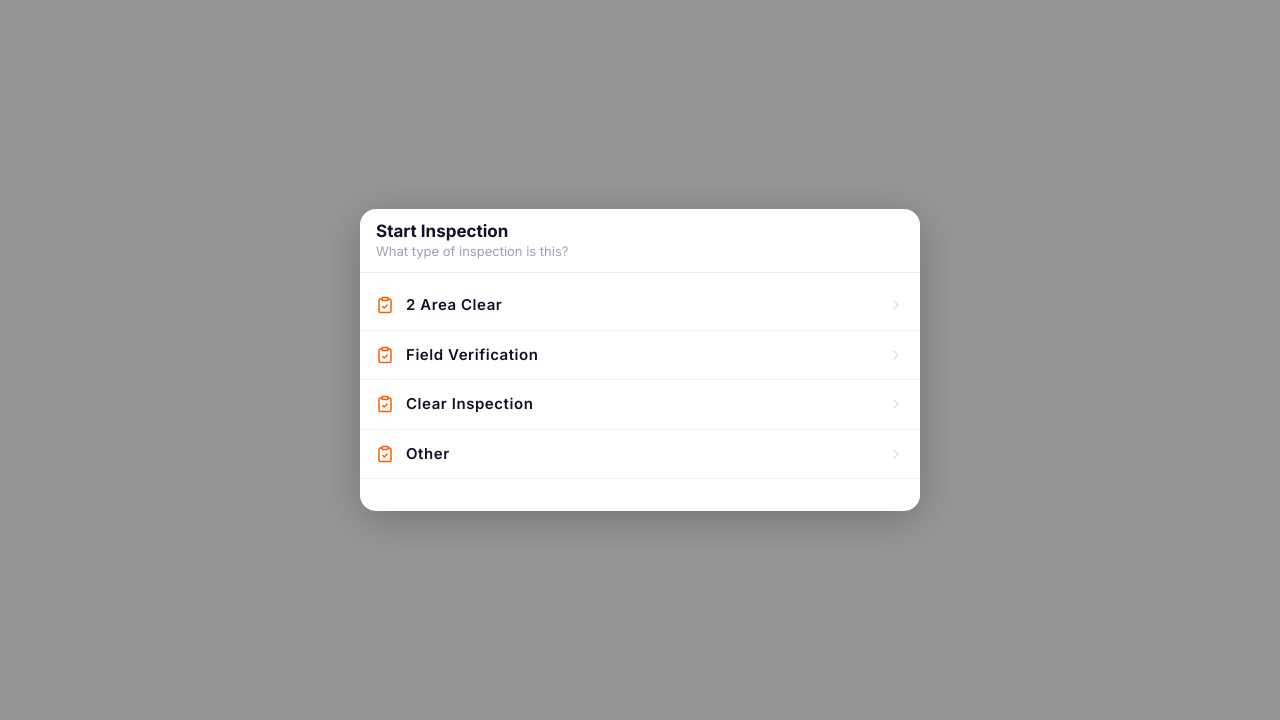
Test: StartInspectionSheet › locks Clear Inspection scopes that are not Install · Complete
The width and height of the screenshot is (1280, 720).
Expected: the text "Clear Inspection" is shown, x1=406 y1=394 x2=533 y2=413
Click the button "Clear Inspection" at (470, 404), box x1=360 y1=380 x2=920 y2=430
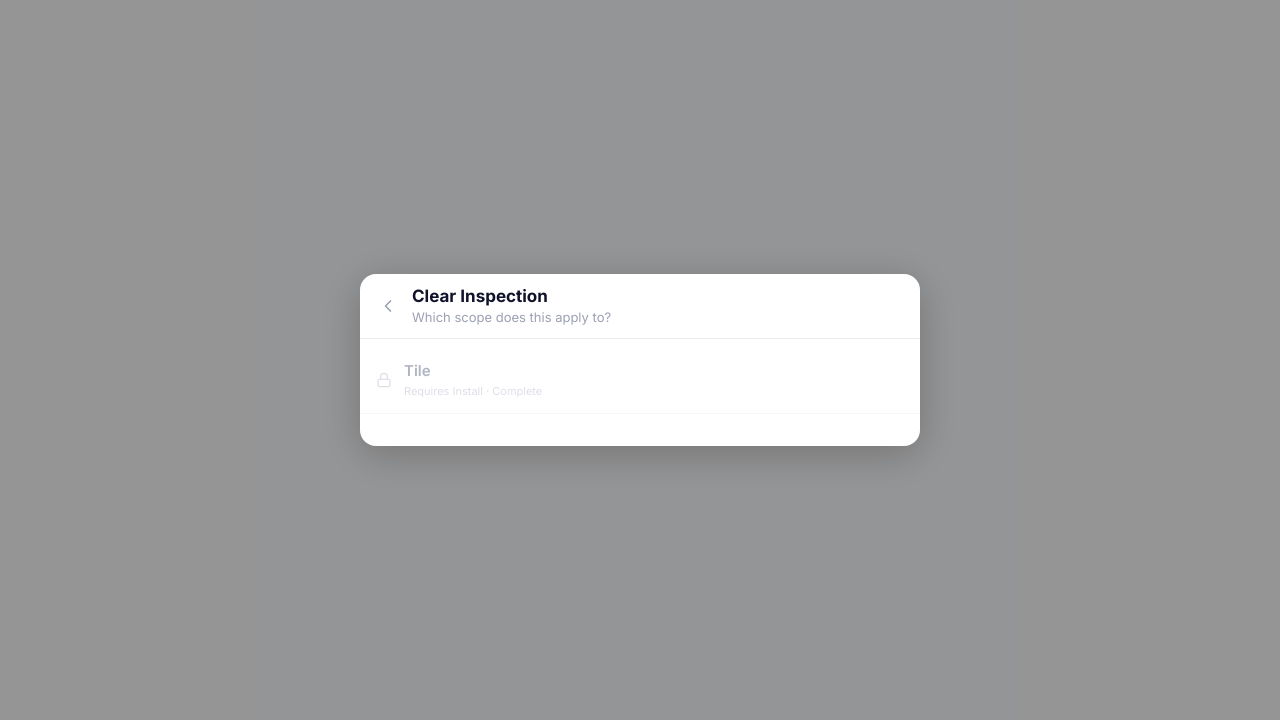
Now the text "Requires Install · Complete" is shown, box x1=404 y1=384 x2=542 y2=398
